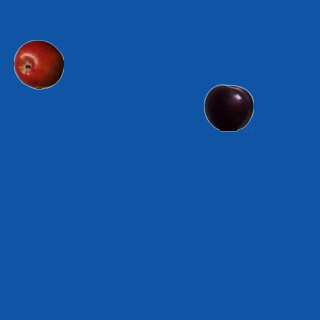Apple Braeburn: (13, 39, 63, 89)
Cherry Wax Black: (203, 82, 253, 132)
